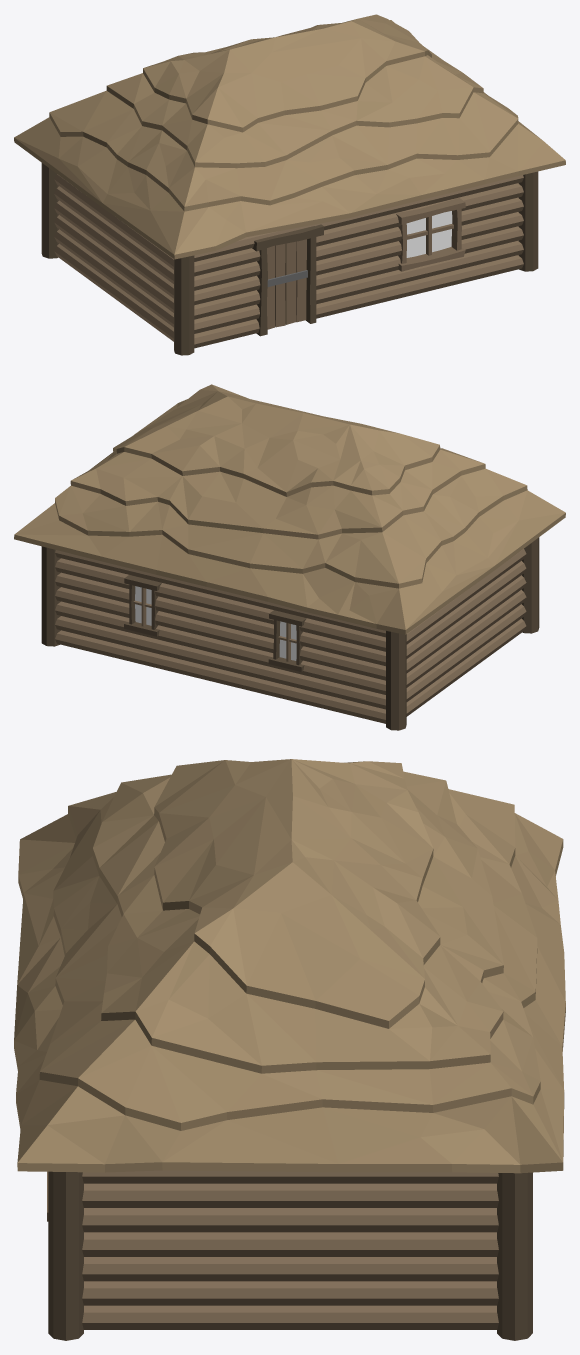
Rendered from village_wood_house_c.FBX.
3 renders of one model, top to bottom at view 1: azimuth 30°, elevation 25°; view 2: azimuth 150°, elevation 25°; view 3: azimuth 270°, elevation 25°, orthographic. The views are drawn at different scales.
Parts seen in each view (by area): view 1: village_wood_house_c; view 2: village_wood_house_c; view 3: village_wood_house_c.
Boxes of the visible parts, x1,y1,x2,y2 form: village_wood_house_c: (14, 14, 565, 355); village_wood_house_c: (14, 384, 565, 730); village_wood_house_c: (14, 759, 565, 1340).
Size of the model in its own units: 8.54 by 4.72 by 6.15.
